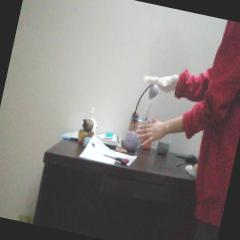gloved: (142, 71, 178, 96)
not-gloved: (133, 113, 170, 153)
